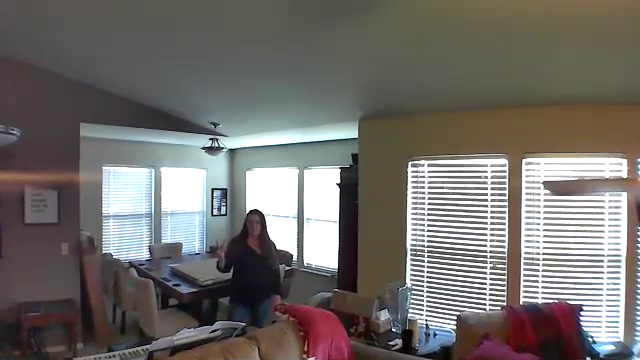peace: (211, 236, 234, 266)
